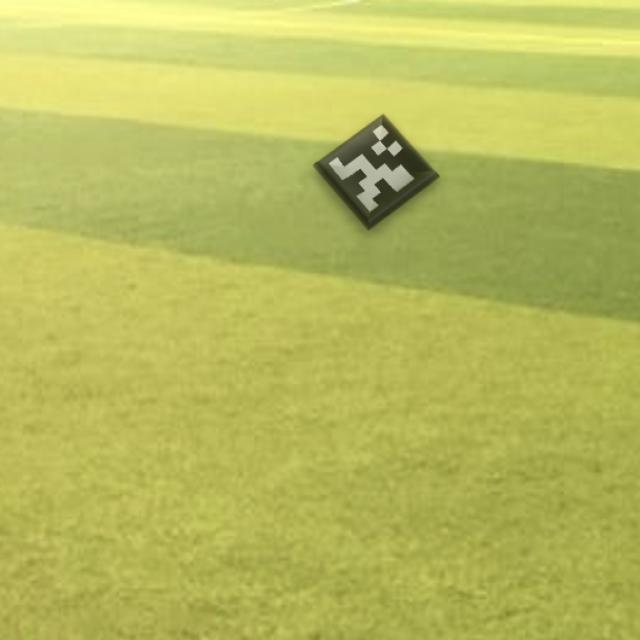marker: (309, 104, 445, 235)
